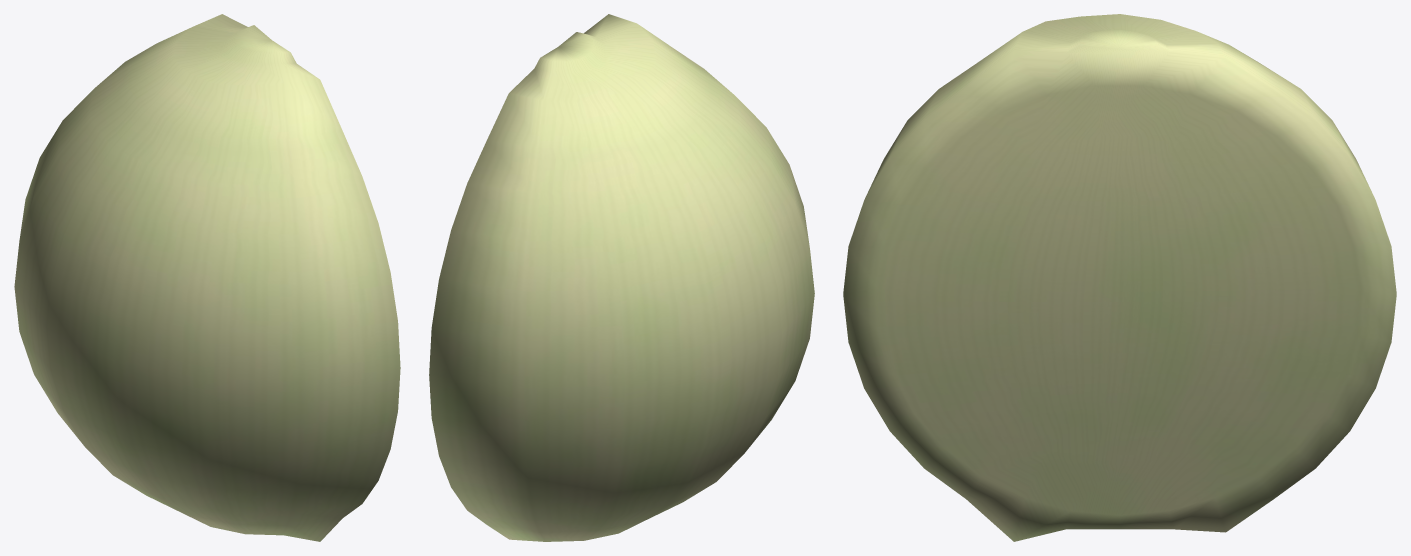
File: WhiteOnion_Halves.glb
3 renders of one model, left to right at view 1: azimuth 30°, elevation 25°; view 2: azimuth 150°, elevation 25°; view 3: azimuth 270°, elevation 25°, orthographic. The views are drawn at different scales.
Parts seen in each view (by area): view 1: Sphere; view 2: Sphere; view 3: Sphere.
Boxes of the visible parts, <box> form: Sphere: <box>14,14,400,541</box>; Sphere: <box>429,14,814,541</box>; Sphere: <box>843,14,1396,541</box>.
Bounding box in the file's own units: 1.94 × 3.88 × 3.89.
1 material, 1 textured.
